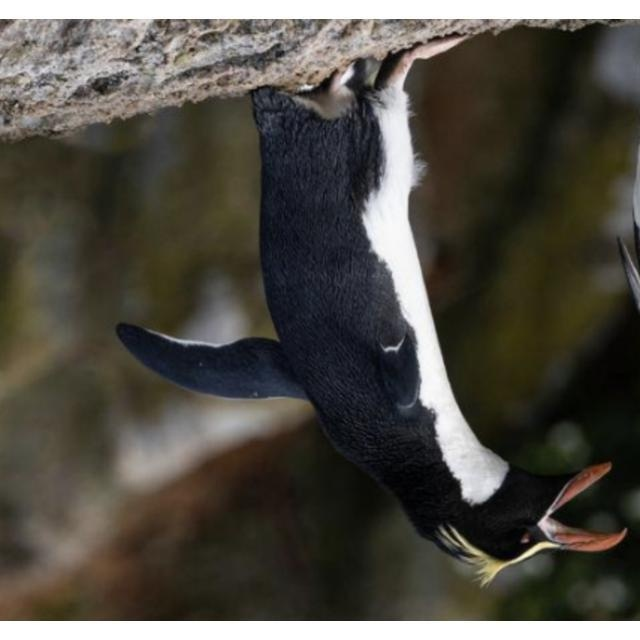penguin: (115, 33, 628, 586)
